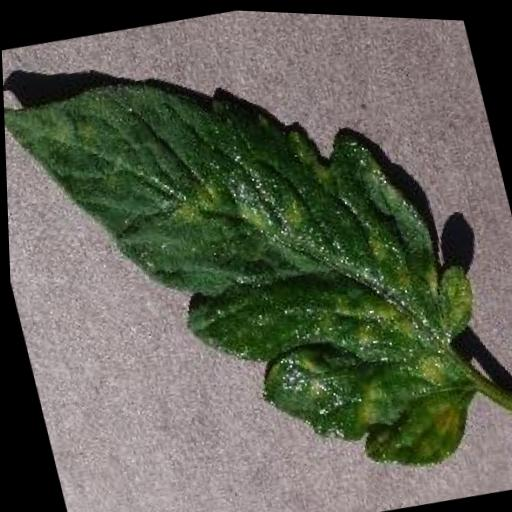Leaf Mold: (0, 11, 506, 512)
